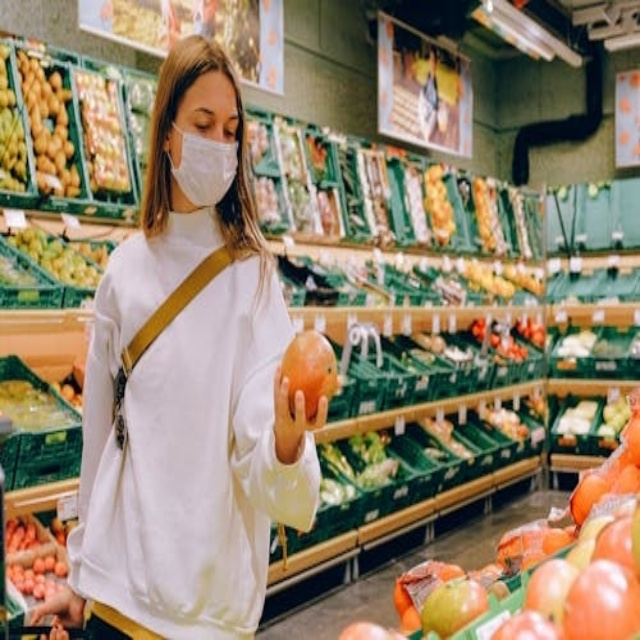Mascara: (168, 123, 239, 206)
Sin_gafas: (177, 96, 243, 140)
Sin_guantes: (268, 357, 333, 463), (27, 575, 87, 640)
